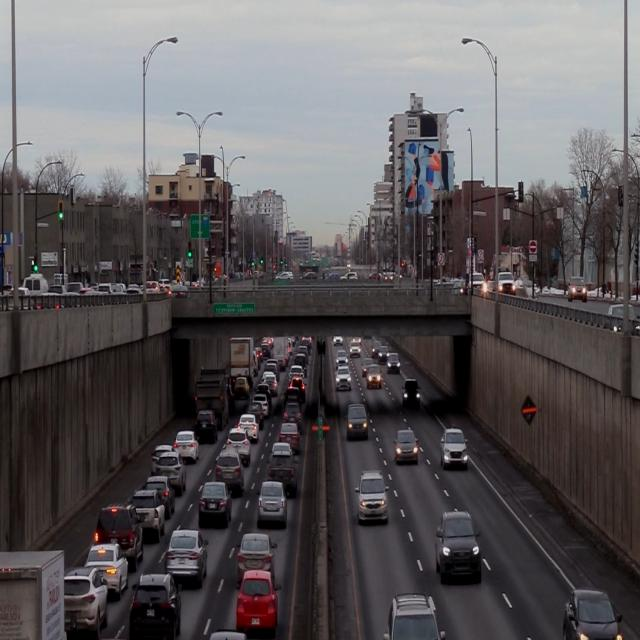Vehicle: (130, 572, 183, 638), (435, 511, 481, 582), (61, 566, 105, 638), (236, 574, 282, 632), (164, 530, 208, 584), (235, 533, 277, 587), (96, 505, 139, 557), (85, 542, 128, 592), (354, 470, 386, 526), (197, 481, 230, 527), (134, 490, 164, 539), (256, 481, 285, 525), (215, 450, 245, 492), (440, 428, 467, 469), (393, 429, 418, 465), (344, 403, 367, 441), (400, 378, 420, 408)
